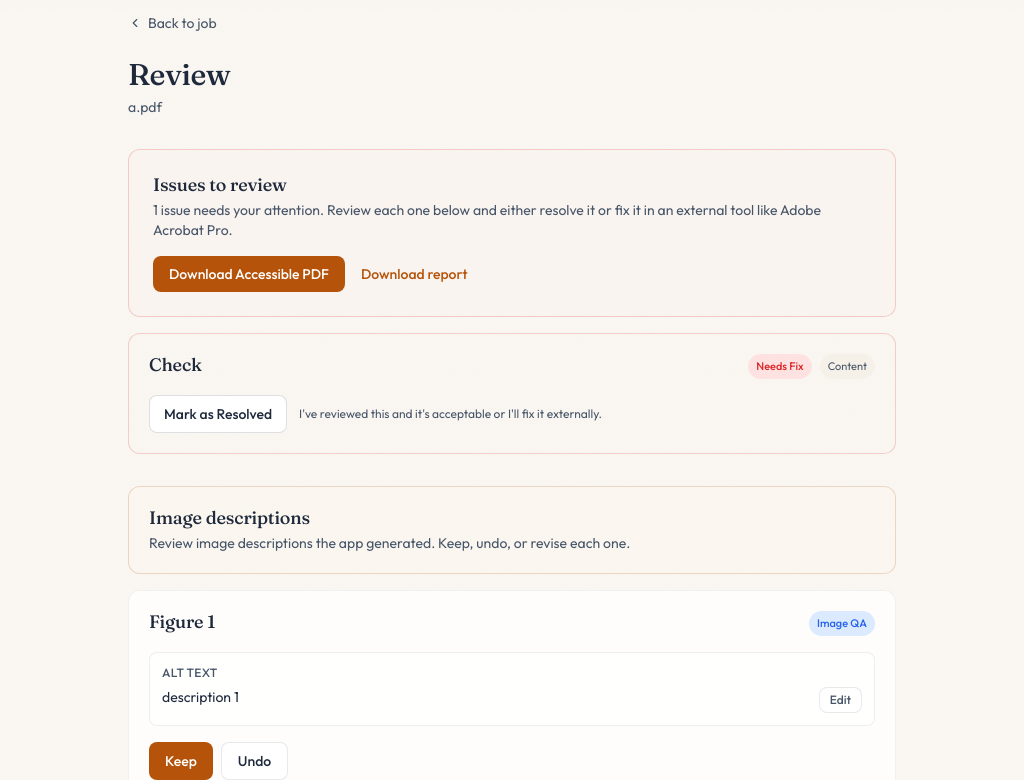
Scenario: shows a failed resolve as an error and releases its busy state for retry
The width and height of the screenshot is (1024, 780).
Click the button "Mark as Resolved" at [218, 414], box [149, 395, 287, 433]
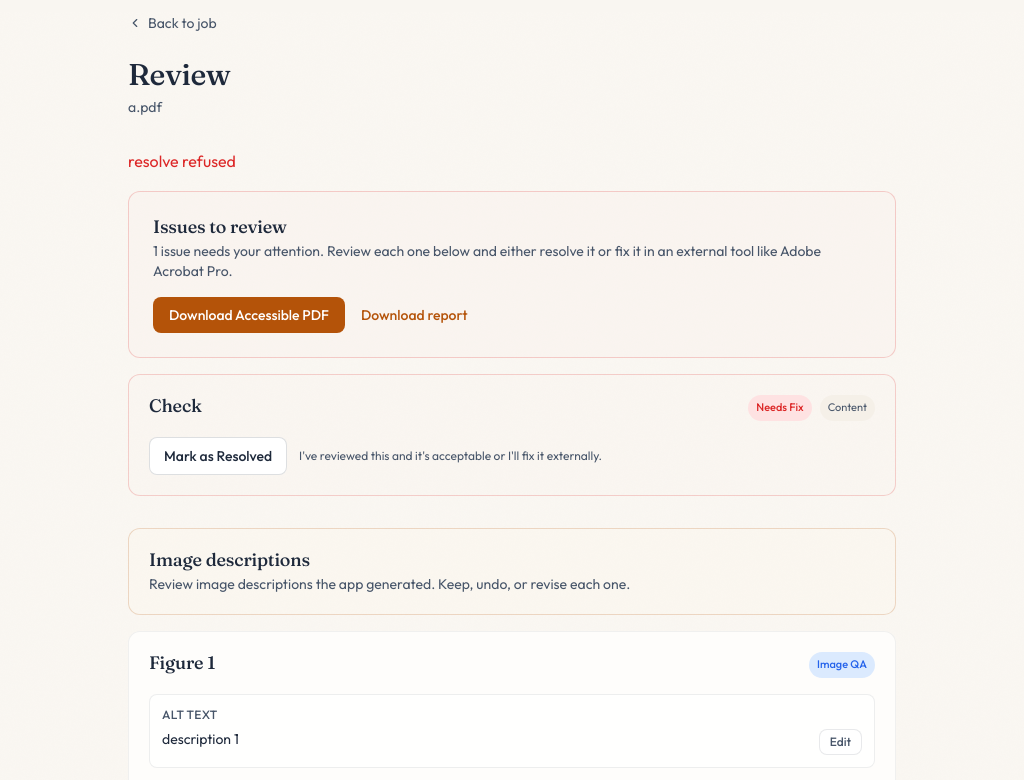
Expected: the button "Mark as Resolved" is enabled, [149, 437, 287, 475]
Now the message "resolve refused" is shown, box [128, 151, 236, 171]
